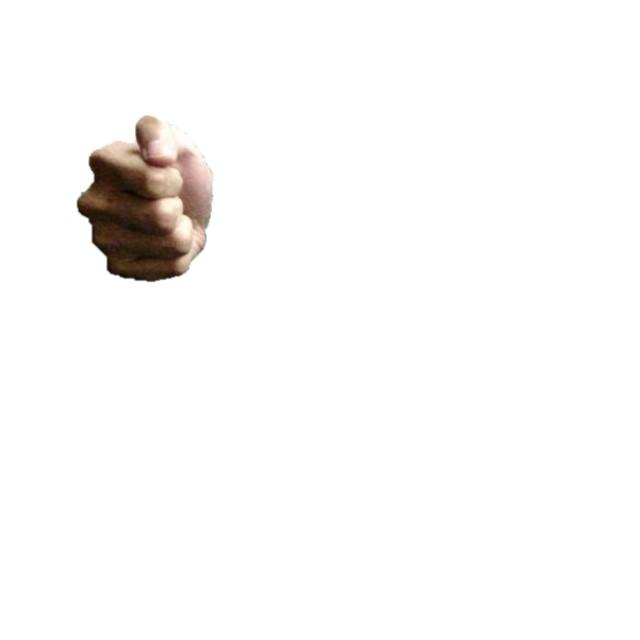gu-: (74, 112, 218, 283)
